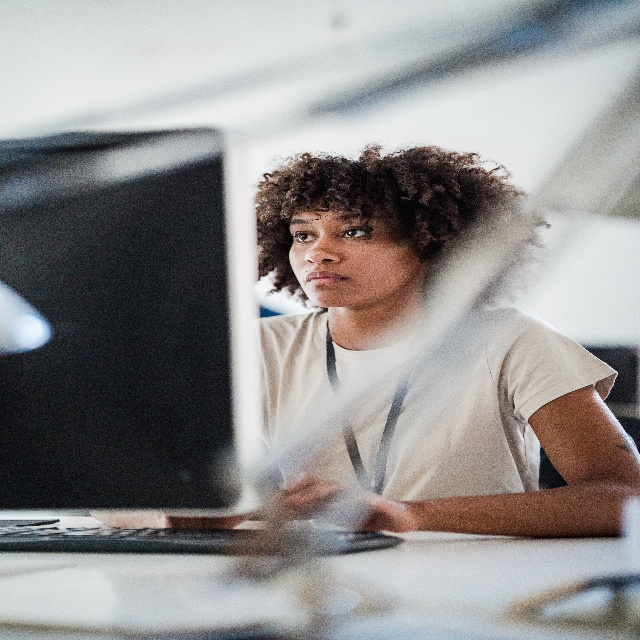Sin_guantes: (328, 484, 410, 535), (280, 475, 337, 519)
